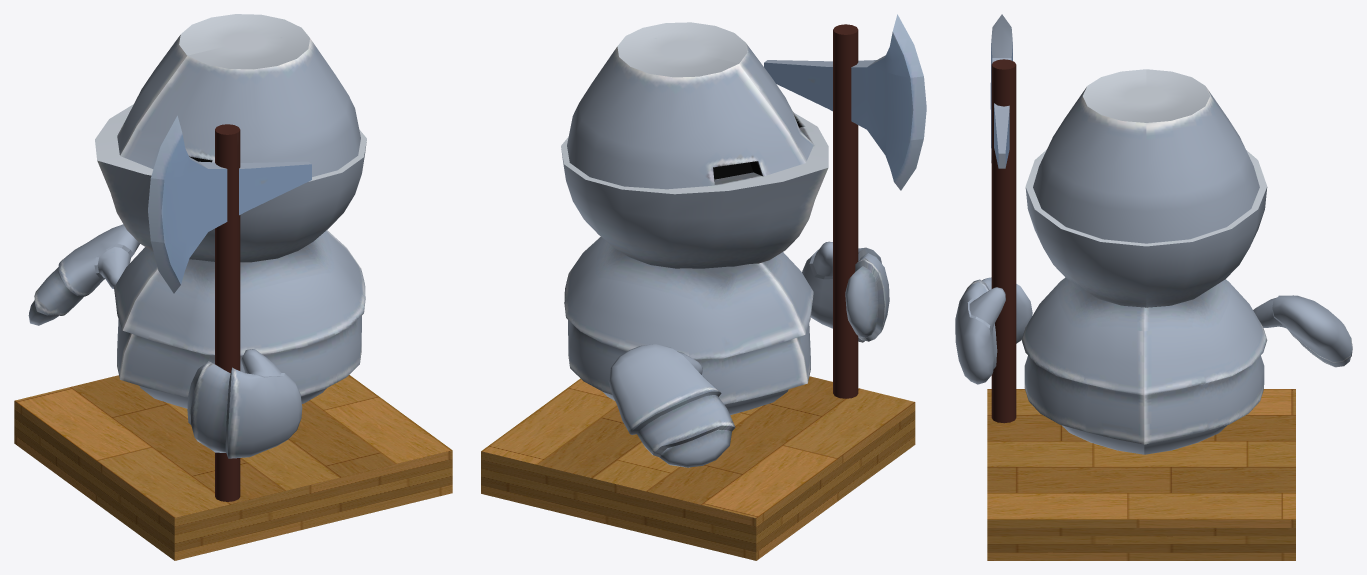
File: Knight.fbx
The picture shows the model from 3 angles, left to right: view 1: azimuth 30°, elevation 25°; view 2: azimuth 150°, elevation 25°; view 3: azimuth 270°, elevation 25°; orthographic projection. The views are drawn at different scales.
Visible parts, largest first — view 1: Knight, Cube; view 2: Knight, Cube; view 3: Knight, Cube.
Part boxes in pixels (box(x1,y1,x2,y2)): Knight: box(28, 14, 366, 501); Cube: box(14, 375, 452, 560); Knight: box(561, 14, 926, 467); Cube: box(481, 376, 915, 560); Knight: box(955, 14, 1352, 454); Cube: box(987, 389, 1295, 560).
Size of the model in its own units: 1.07 by 1.51 by 1.29.
